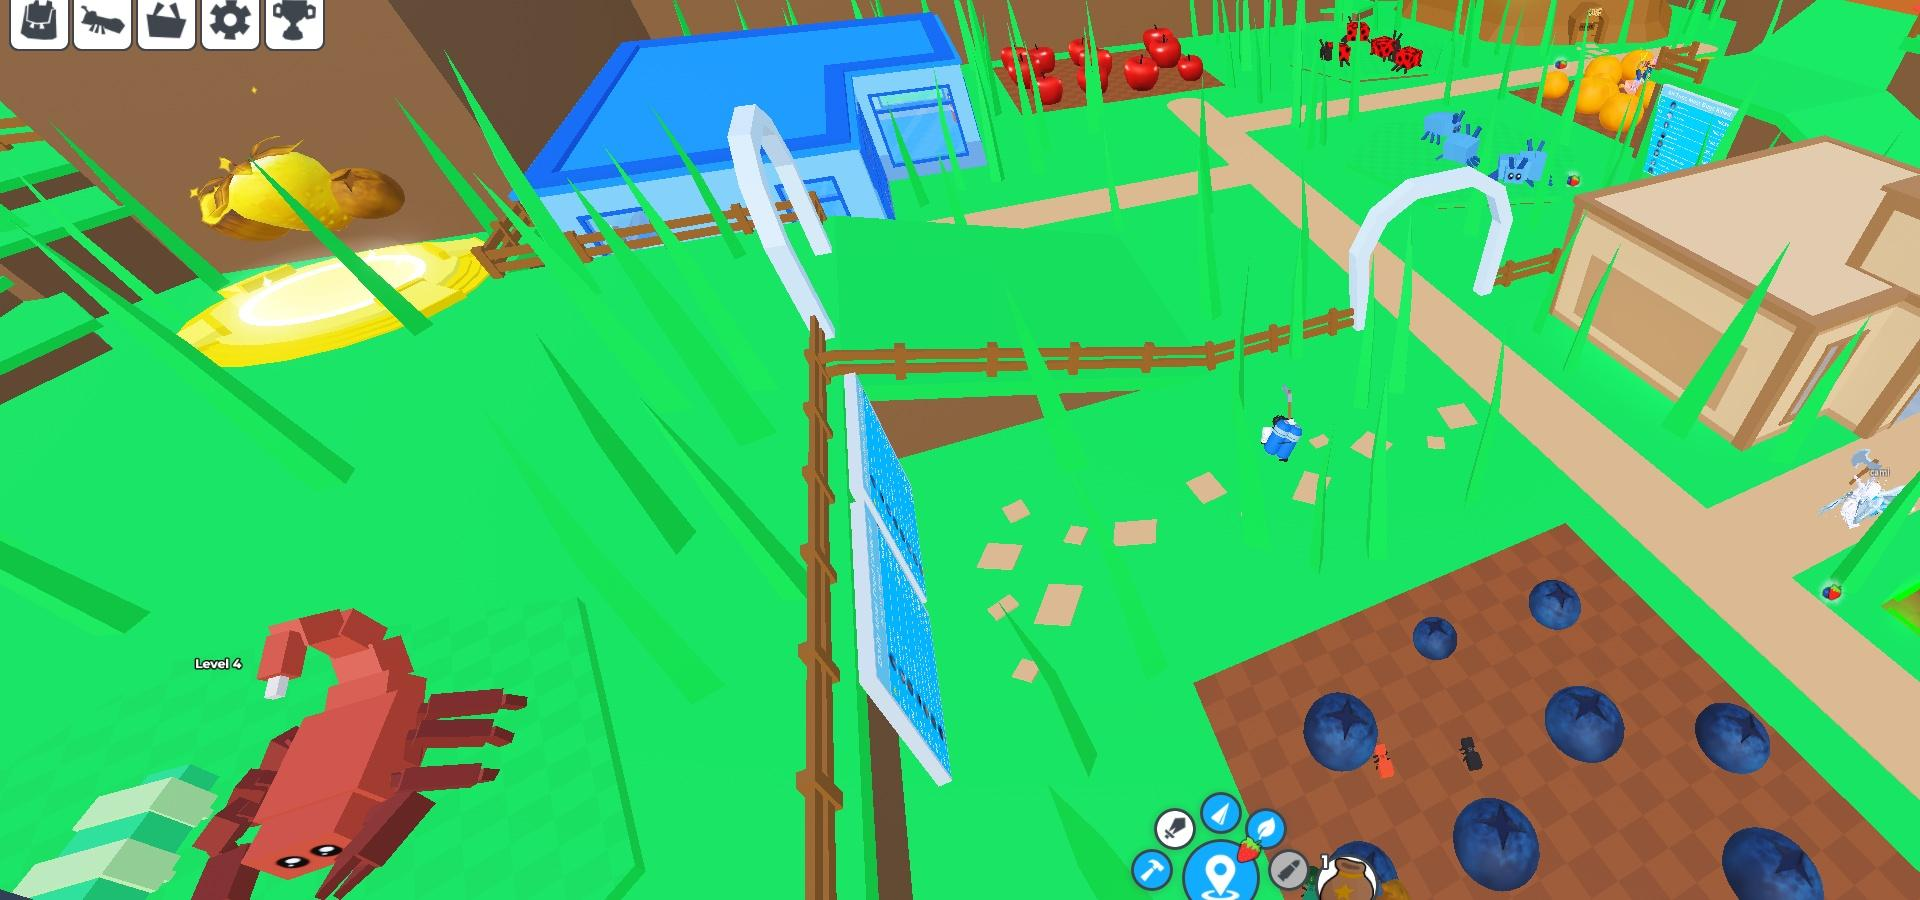Enemy: (1498, 142, 1550, 187), (1434, 131, 1490, 167), (1420, 113, 1461, 142), (1392, 43, 1429, 72), (1370, 33, 1403, 60), (1319, 43, 1351, 64), (1343, 18, 1371, 38)
